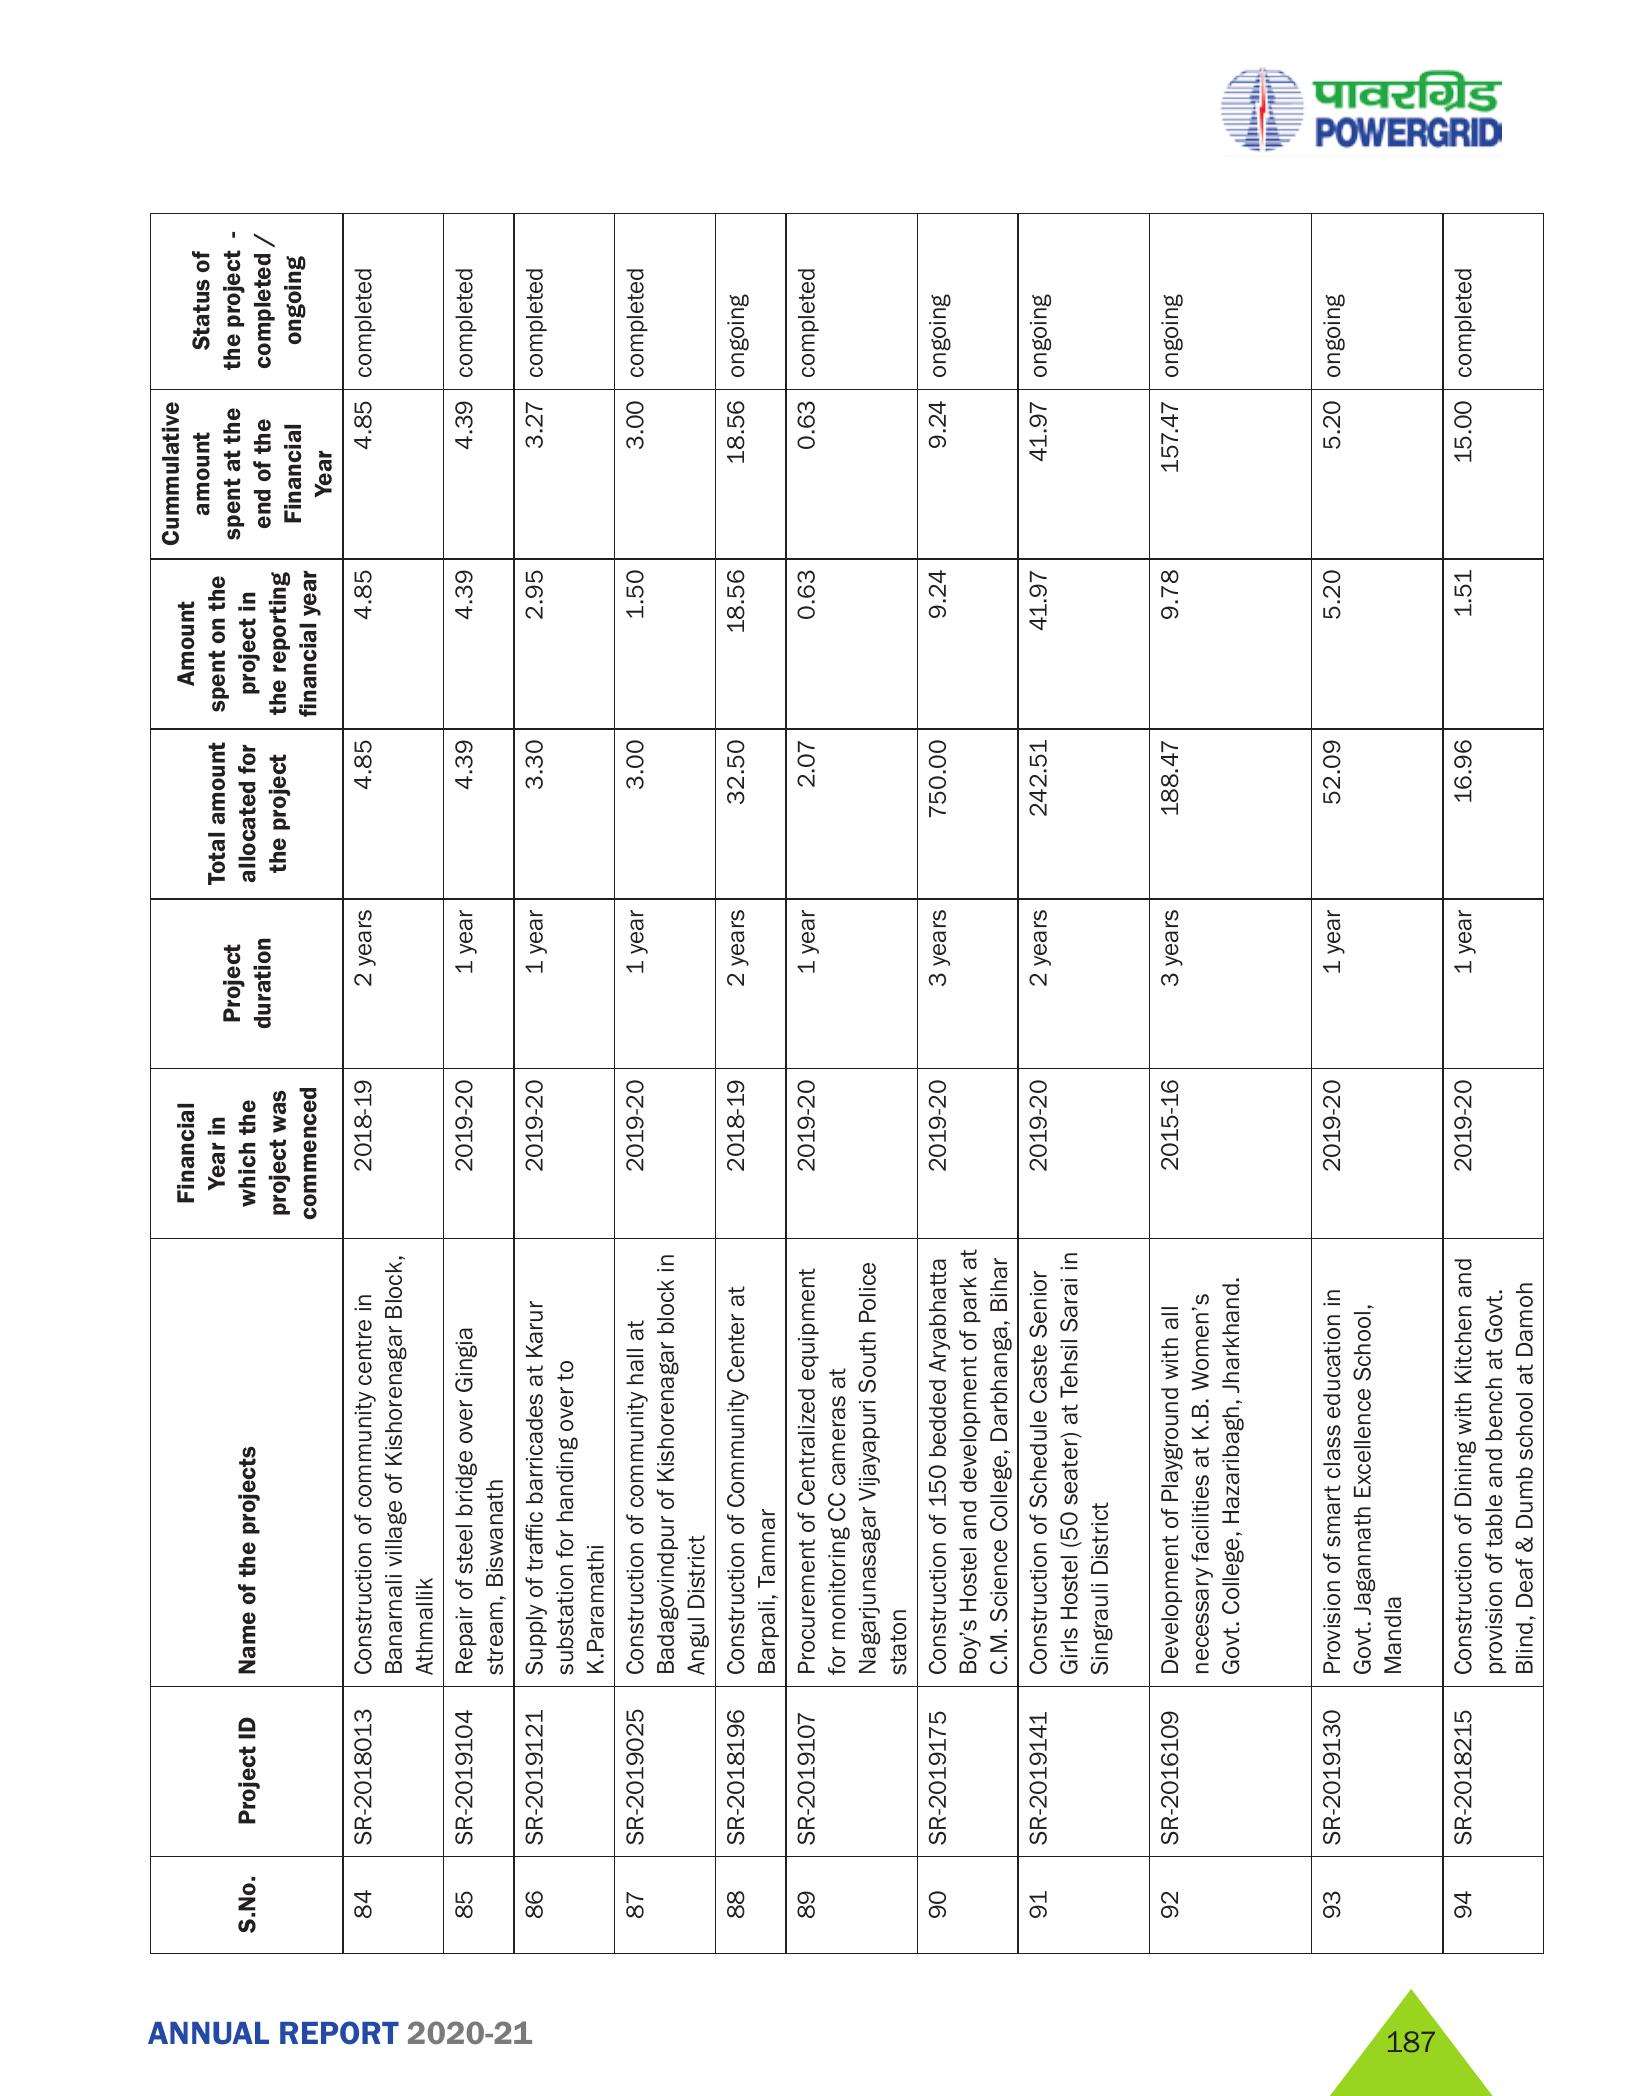Footer: (0, 1974, 1650, 2096)
Header: (0, 0, 1650, 172)
Table: (90, 204, 1548, 1968)
